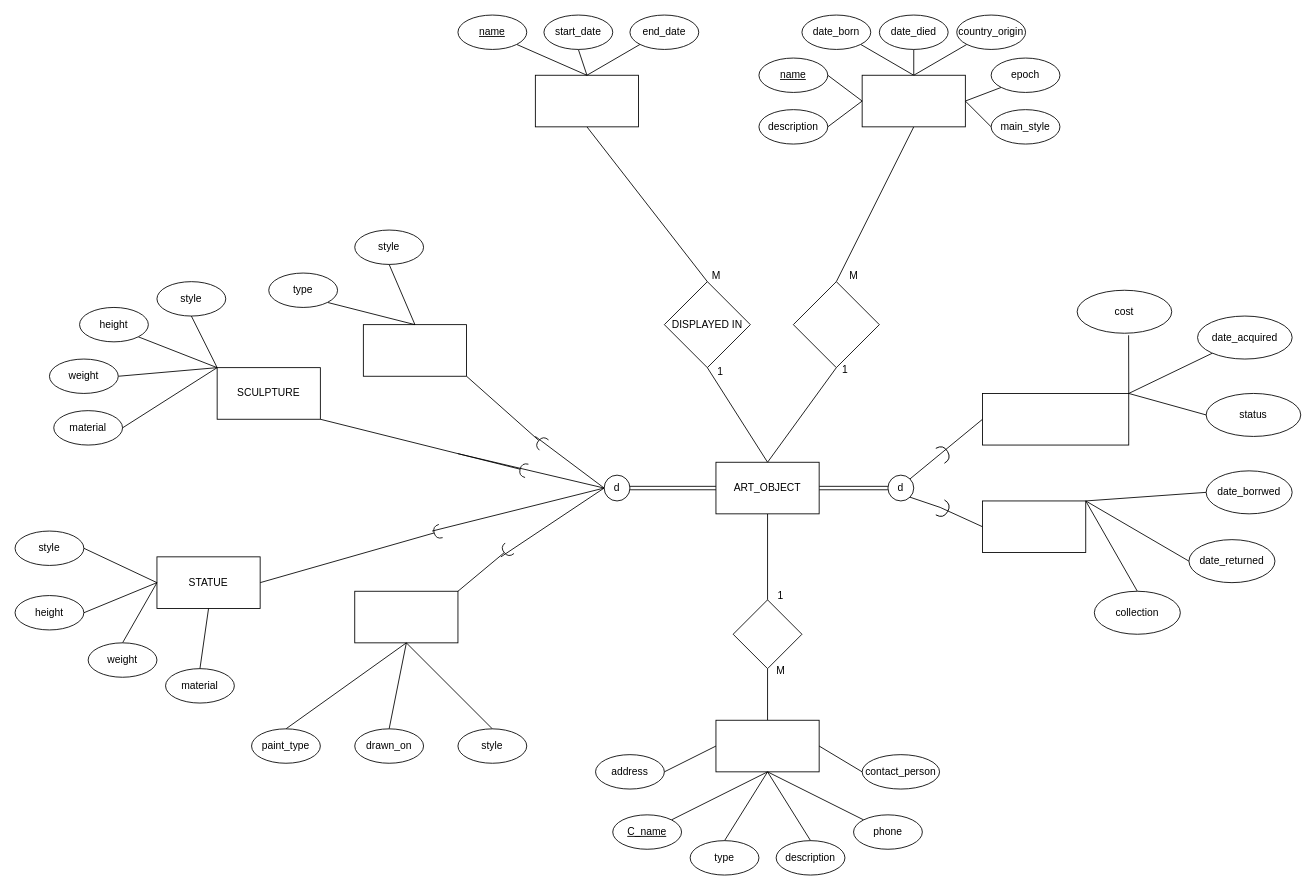
The diagram is 1316 pixels wide and 890 high, and some of its shapes have lost their labels. The shapes that lost their labels are listed below. From the top down, each one's centre as x and y in pixels, then its label:
At (586,100): "EXHIBITION".
At (913,100): "ARTIST".
At (835,324): "HAS A".
At (414,350): "OTHER".
At (1055,419): "PERMANENT_COLLECTION".
At (1034,526): "BORROWED".
At (406,616): "PAINTING".
At (767,634): "A PART OF".
At (767,745): "COLLECTIONS".
